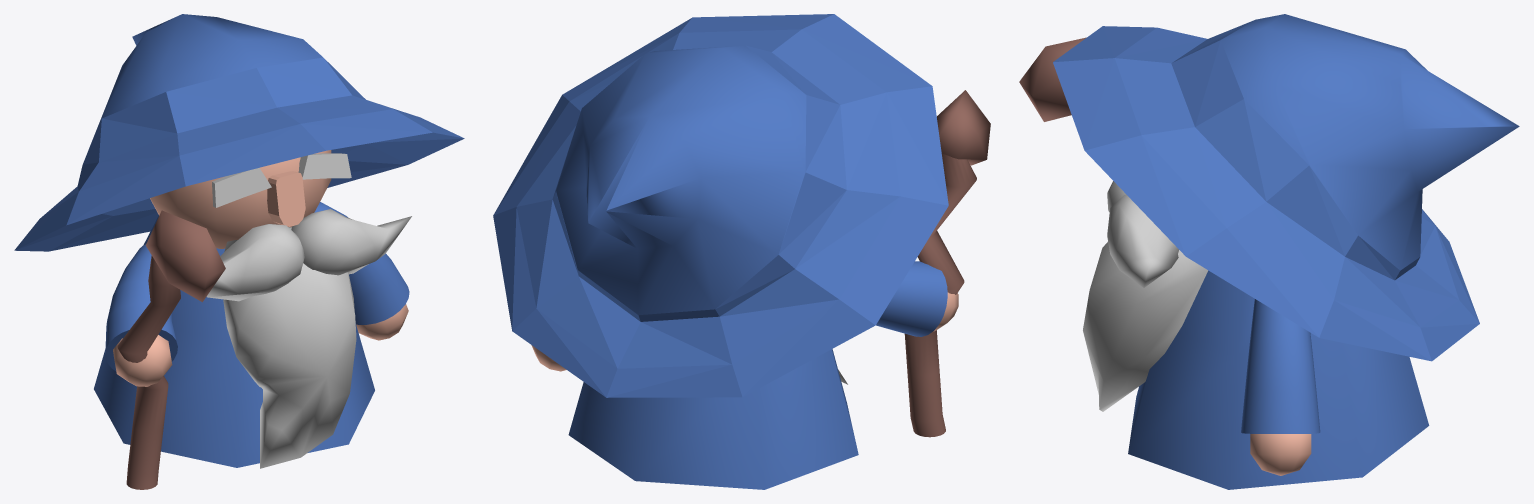
The model's file is mage.glb.
3 renders of one model, left to right at view 1: azimuth 30°, elevation 25°; view 2: azimuth 150°, elevation 25°; view 3: azimuth 270°, elevation 25°, orthographic. The views are drawn at different scales.
Visible parts, largest first — view 1: Cone006, Sphere004, Cone005, Cylinder002, Sphere001, GeoSphere002, GeoSphere003, GeoSphere001, Cone008, Cone007, Box001, Sphere003 (+3 smaller); view 2: Cone006, Cone005, Cylinder002, Cone008, GeoSphere001; view 3: Cone006, Cone005, Sphere004, Cone007, GeoSphere003, GeoSphere001, Sphere002.
Part boxes in pixels (x1=…): Cone006: x1=14, y1=14, x2=464, y2=251; Sphere004: x1=223, y1=227, x2=356, y2=468; Cone005: x1=94, y1=215, x2=374, y2=467; Cylinder002: x1=117, y1=255, x2=180, y2=489; Sphere001: x1=150, y1=150, x2=331, y2=248; GeoSphere002: x1=206, y1=224, x2=304, y2=301; GeoSphere003: x1=291, y1=209, x2=411, y2=275; GeoSphere001: x1=145, y1=210, x2=225, y2=302; Cone008: x1=105, y1=244, x2=177, y2=371; Cone007: x1=314, y1=202, x2=409, y2=324; Box001: x1=267, y1=171, x2=305, y2=226; Sphere003: x1=113, y1=335, x2=172, y2=386; Cone006: x1=493, y1=14, x2=948, y2=397; Cone005: x1=568, y1=349, x2=858, y2=489; Cylinder002: x1=904, y1=149, x2=976, y2=437; Cone008: x1=876, y1=261, x2=947, y2=336; GeoSphere001: x1=937, y1=90, x2=990, y2=165; Cone006: x1=1053, y1=14, x2=1519, y2=361; Cone005: x1=1128, y1=270, x2=1429, y2=489; Sphere004: x1=1083, y1=242, x2=1208, y2=411; Cone007: x1=1241, y1=299, x2=1320, y2=433; GeoSphere003: x1=1107, y1=194, x2=1178, y2=287; GeoSphere001: x1=1019, y1=37, x2=1086, y2=121; Sphere002: x1=1250, y1=434, x2=1311, y2=475.
Size of the model in its own units: 63.08 by 57.14 by 64.65.
